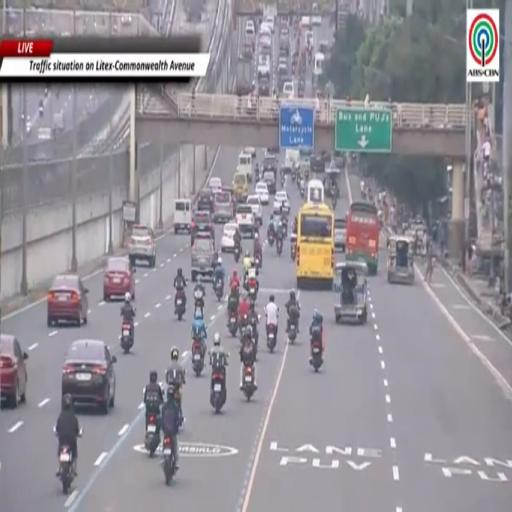bus: (296, 203, 334, 289), (346, 201, 380, 275), (307, 180, 324, 203)
car: (62, 340, 116, 413), (47, 274, 88, 326), (0, 334, 28, 408), (104, 258, 135, 301), (191, 234, 216, 281), (128, 226, 156, 267), (191, 211, 213, 241), (213, 190, 232, 222), (236, 204, 254, 237), (247, 195, 263, 226), (221, 222, 237, 252), (196, 188, 214, 213), (334, 218, 346, 251), (273, 190, 290, 213), (309, 152, 325, 173), (262, 170, 276, 194), (255, 182, 269, 204), (262, 152, 278, 171), (311, 3, 321, 26), (282, 81, 294, 99), (262, 15, 274, 33), (209, 178, 222, 194), (311, 14, 322, 27), (243, 147, 256, 158)
jeepney: (333, 262, 368, 325), (388, 235, 414, 283)
motorcycle: (59, 444, 75, 494), (210, 372, 226, 413), (145, 414, 159, 457), (163, 436, 175, 485), (191, 335, 204, 376), (310, 335, 323, 372), (243, 365, 255, 401), (121, 322, 134, 354), (175, 291, 185, 321), (228, 311, 238, 337), (267, 325, 276, 353), (194, 296, 204, 317), (248, 279, 257, 301), (215, 279, 223, 301), (288, 323, 296, 344), (254, 254, 261, 273), (291, 235, 296, 261), (276, 238, 283, 256), (268, 230, 275, 247), (234, 246, 240, 263), (282, 218, 287, 237), (297, 176, 302, 189), (300, 185, 305, 198), (255, 171, 260, 183), (332, 196, 336, 209), (292, 169, 296, 181), (281, 175, 285, 187)
truck: (236, 59, 252, 95), (184, 0, 205, 23)
